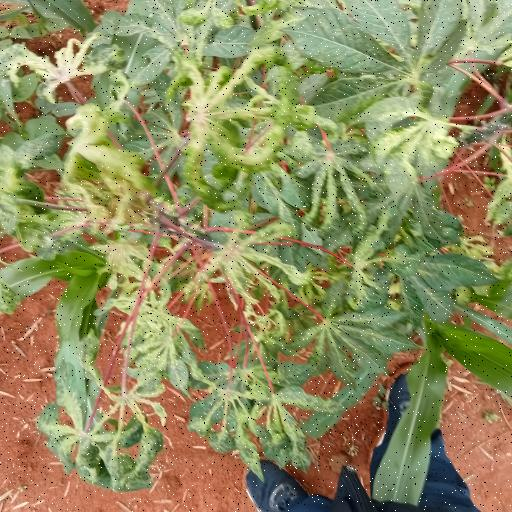Cassava_Mosaic: (278, 1, 459, 118), (50, 365, 178, 480), (192, 363, 326, 459)
